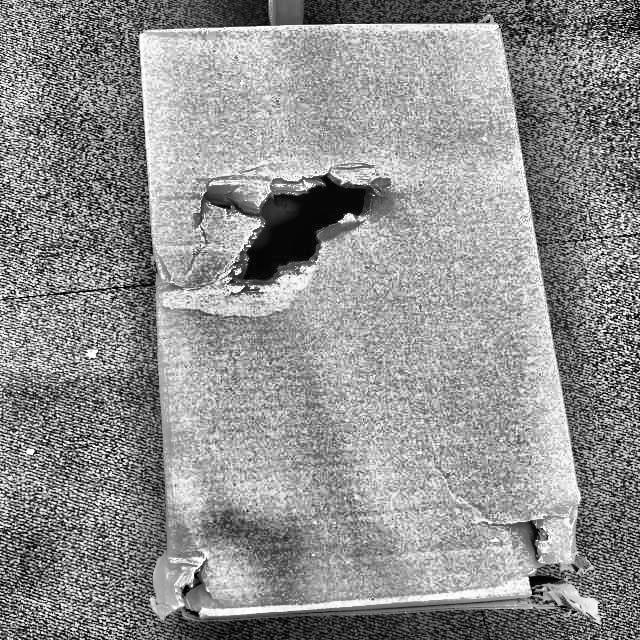box: (115, 13, 618, 622)
hole: (197, 171, 397, 299), (499, 494, 589, 608), (163, 551, 221, 624)
